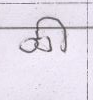i_matra: (37, 16, 72, 52)
